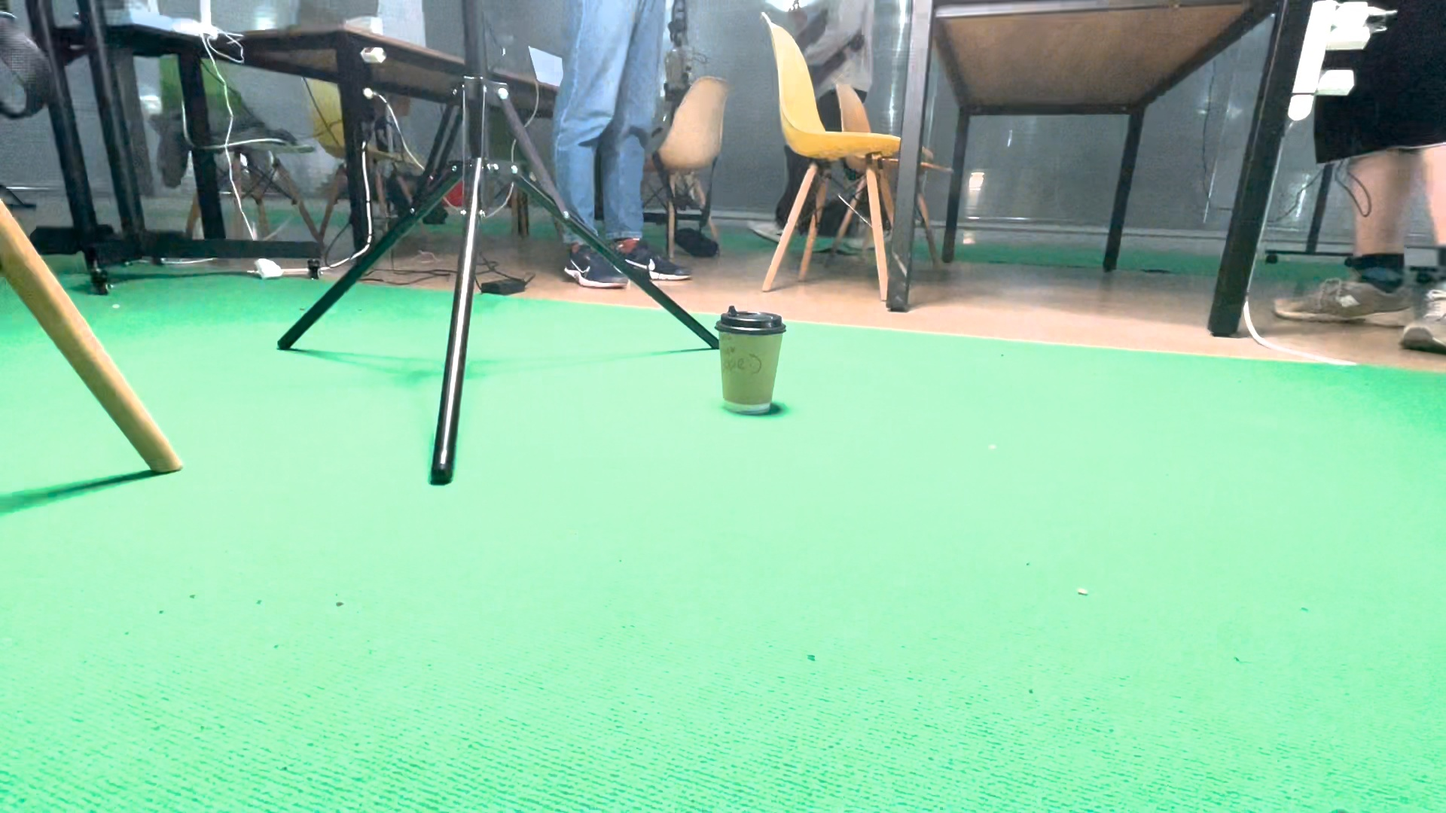cup: (686, 431, 804, 596)
